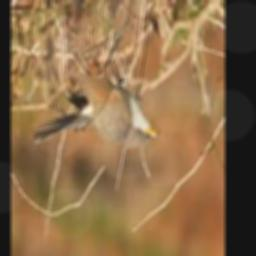Cuckoo: (33, 75, 161, 146)
